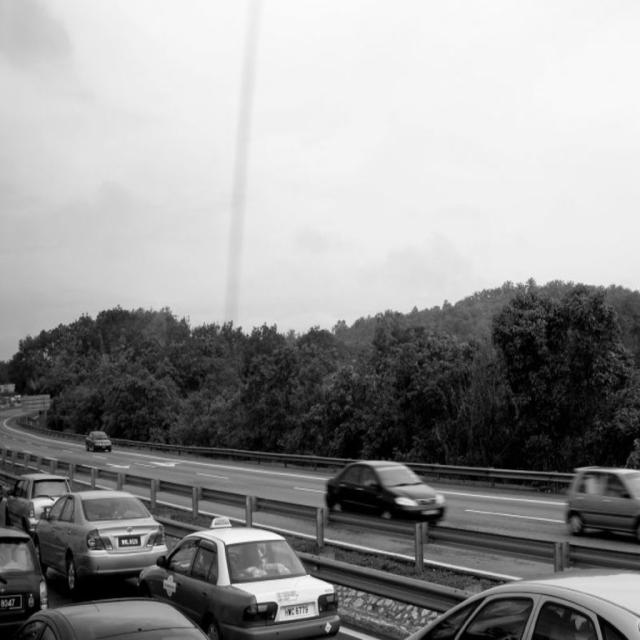car: (85, 431, 112, 453)
